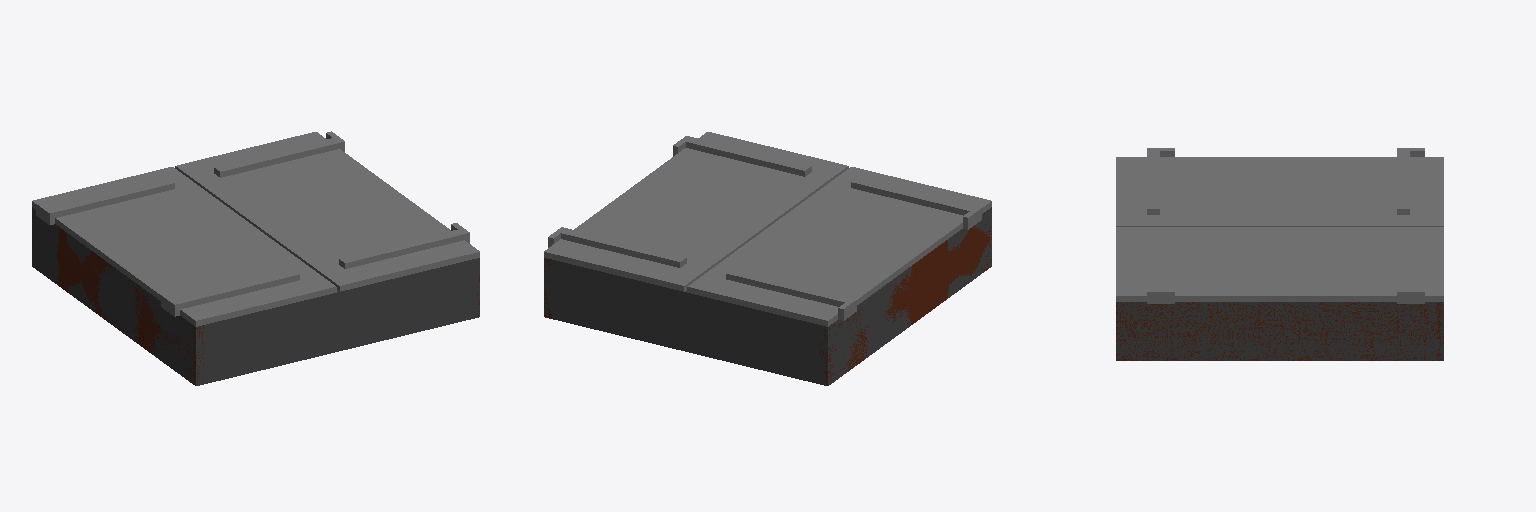
Rendered from close_window.obj.
The picture shows the model from 3 angles: view 1: azimuth 30°, elevation 25°; view 2: azimuth 150°, elevation 25°; view 3: azimuth 270°, elevation 25°; orthographic projection.
Parts seen in each view (by area): view 1: Extrusion:2, Generic - 200mm, Extrusion:3, Extrusion, Extrusion:4; view 2: Extrusion:2, Generic - 200mm, Extrusion, Extrusion:3, Extrusion:4; view 3: Extrusion:2, Generic - 200mm, Extrusion:1, Extrusion:4, Extrusion:3.
Boxes of the visible parts, <box> form: Extrusion:2: <box>32,132,479,326</box>; Generic - 200mm: <box>32,207,479,385</box>; Extrusion:3: <box>214,138,464,268</box>; Extrusion: <box>32,216,203,385</box>; Extrusion:4: <box>49,178,299,308</box>; Extrusion:2: <box>544,132,991,326</box>; Generic - 200mm: <box>544,207,991,385</box>; Extrusion: <box>820,208,991,385</box>; Extrusion:3: <box>561,137,811,267</box>; Extrusion:4: <box>726,177,975,306</box>; Extrusion:2: <box>1116,157,1443,301</box>; Generic - 200mm: <box>1116,302,1443,360</box>; Extrusion:1: <box>1116,302,1443,360</box>; Extrusion:4: <box>1147,151,1409,214</box>; Extrusion:3: <box>1147,231,1409,289</box>.
Bounding box in the file's own units: 1.04 × 0.24 × 1.